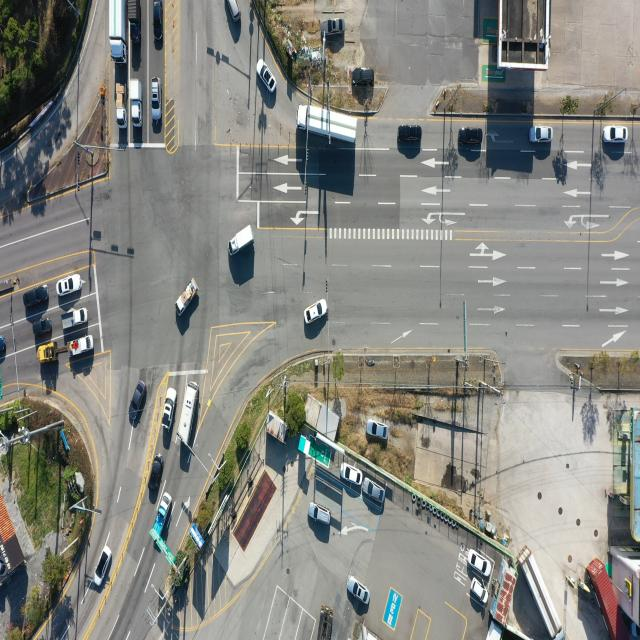car: (130, 378, 148, 422), (94, 545, 112, 587), (259, 60, 279, 94), (348, 575, 370, 605), (163, 388, 177, 432), (304, 300, 327, 326), (152, 0, 164, 49), (470, 551, 492, 577), (149, 455, 163, 495), (309, 503, 331, 528), (364, 480, 386, 505), (58, 275, 82, 297), (24, 286, 48, 307), (470, 578, 488, 606), (459, 128, 483, 148), (342, 462, 363, 484), (603, 126, 627, 145), (365, 420, 387, 440), (530, 126, 552, 144), (352, 67, 374, 85), (150, 77, 159, 121), (32, 318, 52, 336), (324, 18, 344, 36), (228, 0, 242, 21), (0, 338, 7, 357)
medium_truck: (524, 548, 566, 638), (300, 107, 361, 145), (175, 381, 198, 448), (148, 490, 172, 550), (110, 0, 128, 61)
small_truck: (229, 225, 254, 258), (176, 281, 197, 316), (130, 78, 144, 126), (70, 335, 95, 358), (63, 306, 89, 328), (115, 82, 127, 128), (128, 0, 140, 44), (191, 524, 207, 554), (398, 125, 423, 144), (37, 342, 59, 363)
